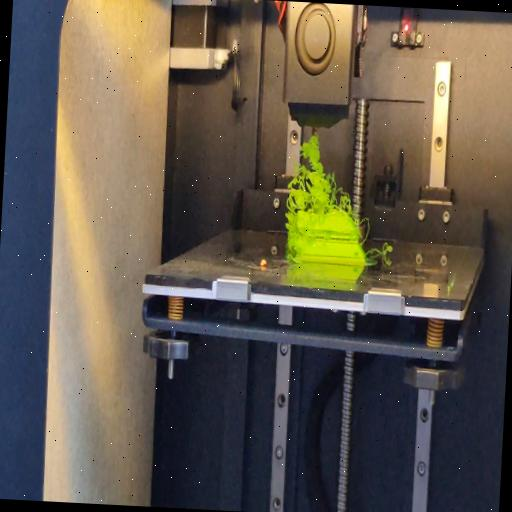spaghetti: (286, 131, 356, 219), (280, 213, 297, 269), (366, 238, 392, 260), (360, 214, 370, 246)
